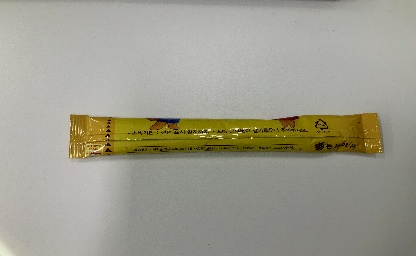jt: (66, 108, 385, 159)
